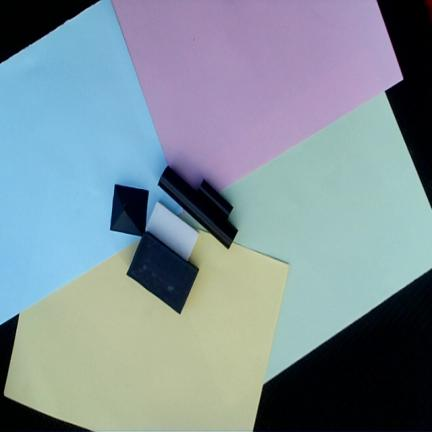Cilindro: (158, 165, 239, 250), (197, 179, 233, 220)
Paralelepipedo: (127, 232, 199, 315), (146, 201, 200, 261)
Piramide: (110, 184, 149, 237)
